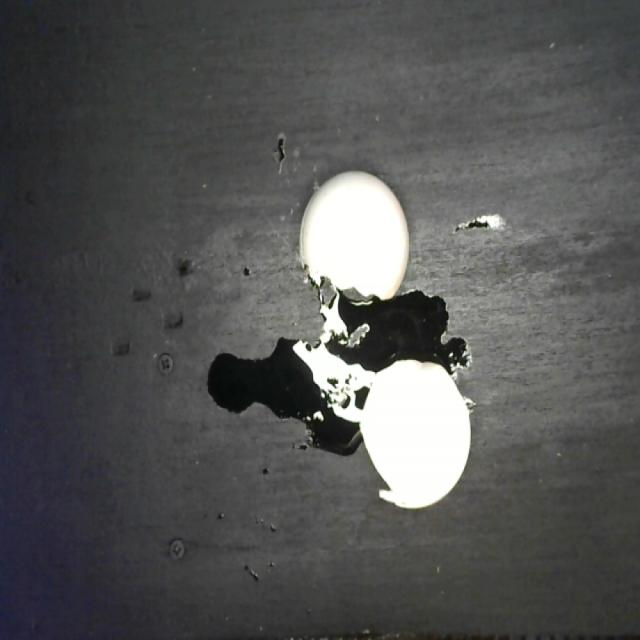biodegradable: (294, 164, 476, 515)
